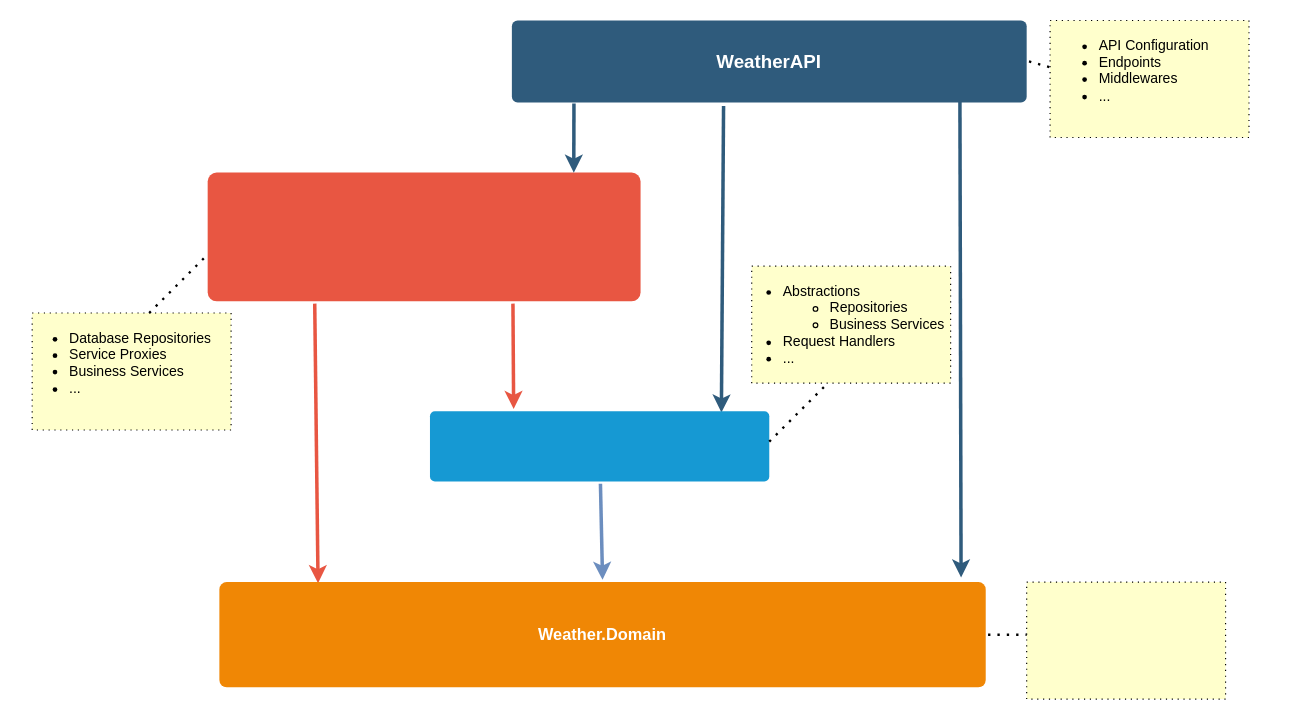
Some shapes in this 1303 by 720 pixel diagram are drawn without their labels. Each missing label, with the centre of its shape:
"All Shared POCO classes ..." belongs at [1126,640].
"Weather.Core" belongs at [599,446].
"Weather.Infrastructure" belongs at [423,236].
